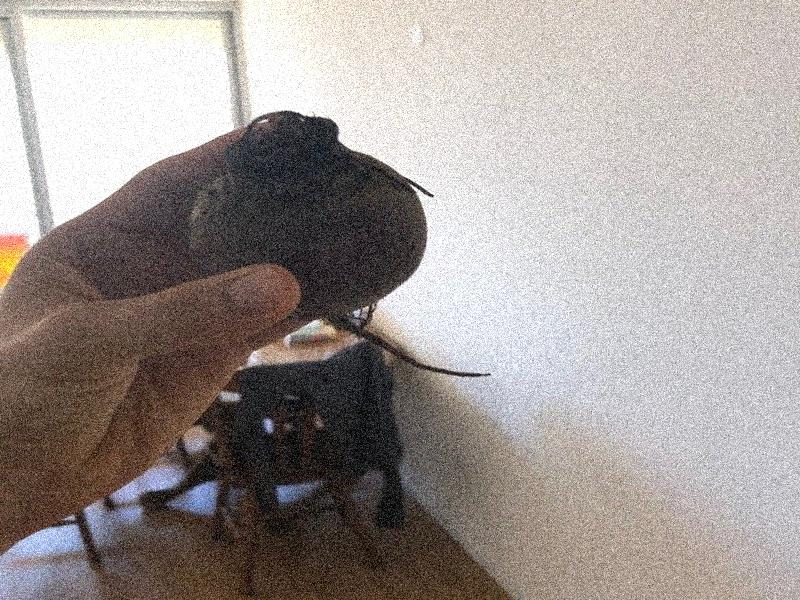Beet: (189, 111, 490, 377)
